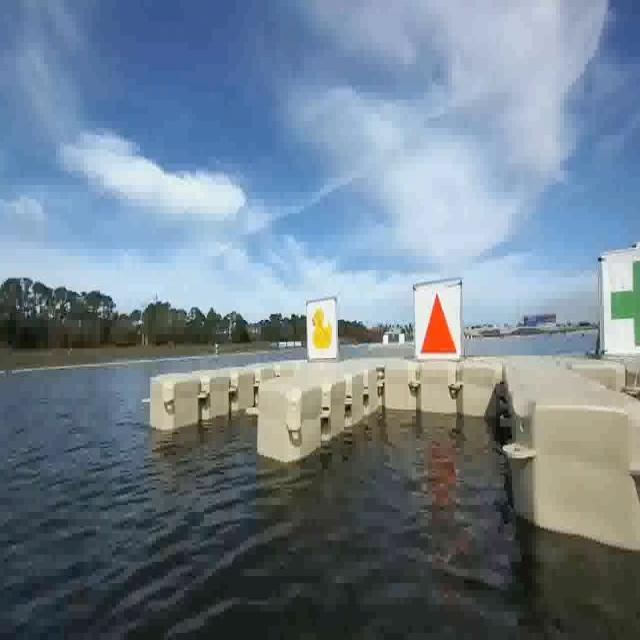blue-cross: (601, 256, 640, 352)
red-dot: (415, 281, 462, 359)
yellow-duck: (308, 306, 334, 358)
